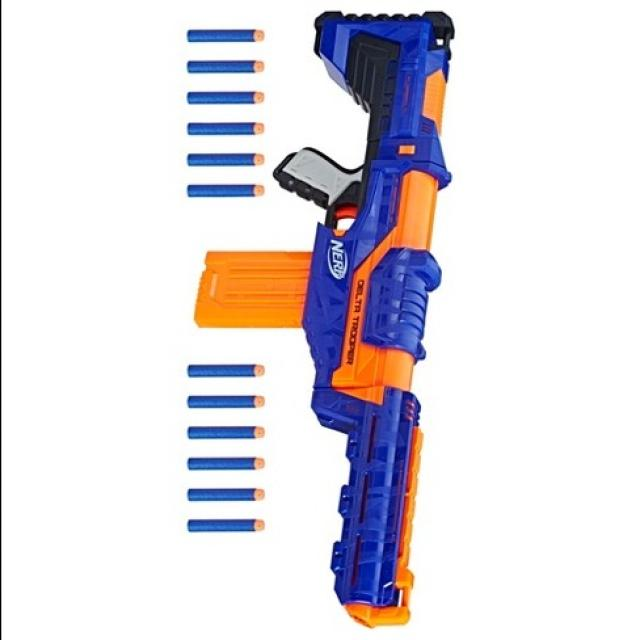Nerf gun: (189, 5, 464, 630)
